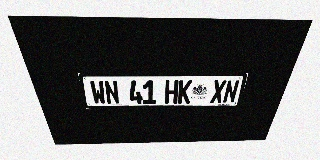1: (142, 80, 156, 104)
4: (128, 80, 143, 104)
H: (165, 80, 179, 104)
K: (178, 80, 192, 104)
N: (222, 80, 240, 103), (103, 80, 120, 104)
W: (89, 80, 107, 104)
X: (210, 80, 227, 103)
